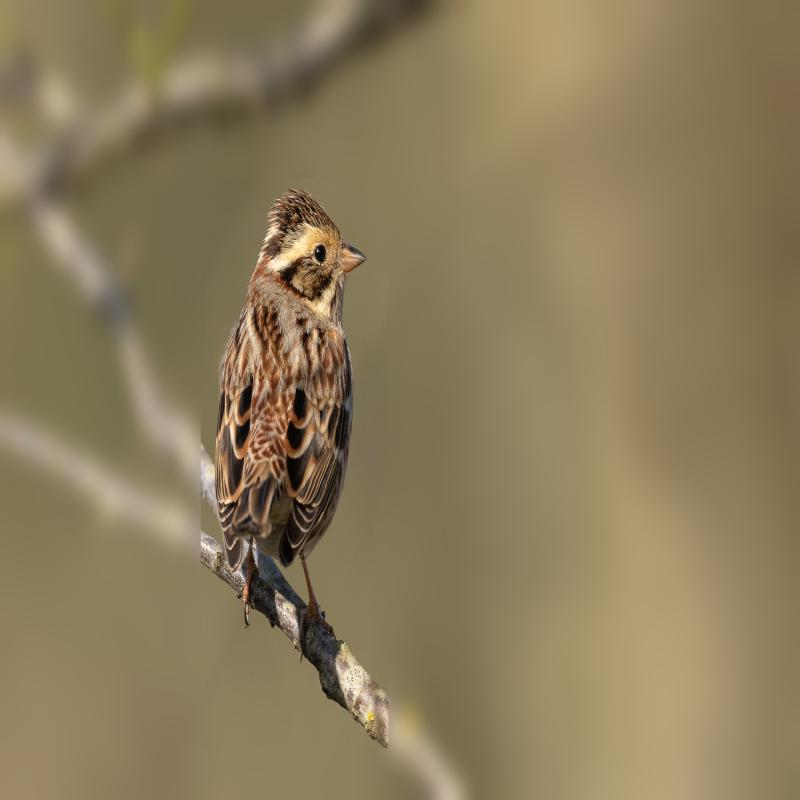rustic bunting: (201, 180, 372, 643)
